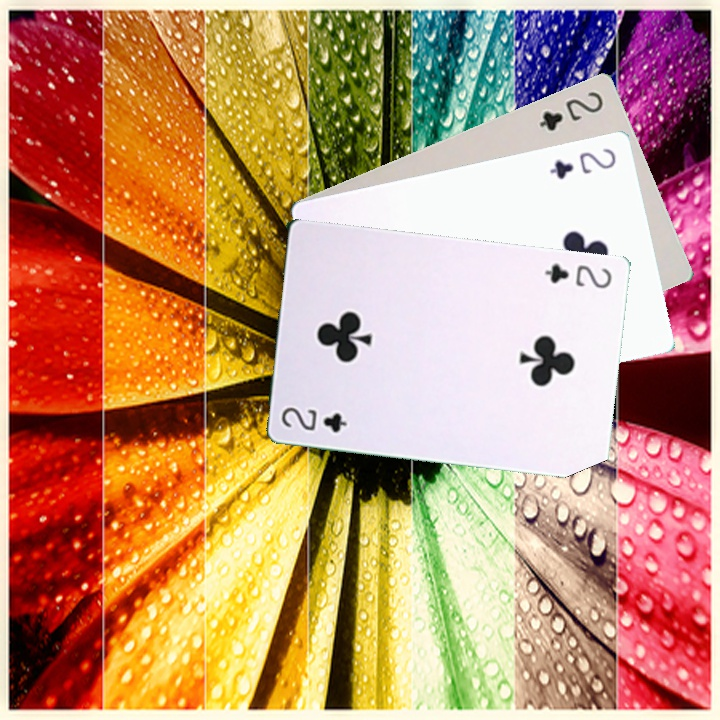2c: (535, 87, 606, 134), (545, 144, 619, 182), (540, 259, 615, 291), (277, 403, 349, 435)
